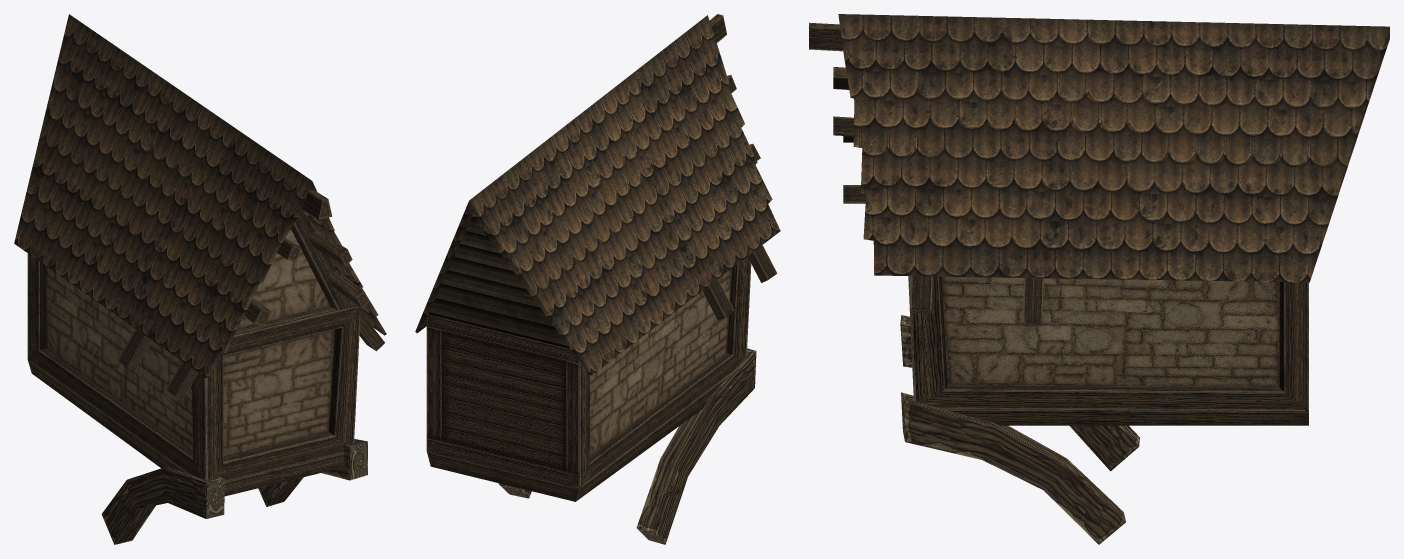
The model's file is Window_b04.fbx.
The picture shows the model from 3 angles, left to right: view 1: azimuth 30°, elevation 25°; view 2: azimuth 150°, elevation 25°; view 3: azimuth 270°, elevation 25°; orthographic projection. The views are drawn at different scales.
Parts seen in each view (by area): view 1: Window_b04; view 2: Window_b04; view 3: Window_b04.
Boxes of the visible parts, bbox=[...] form: Window_b04: bbox=[14, 14, 386, 544]; Window_b04: bbox=[415, 14, 780, 544]; Window_b04: bbox=[809, 14, 1389, 544].
Bounding box in the file's own units: 3.76 × 7.24 × 7.76.
